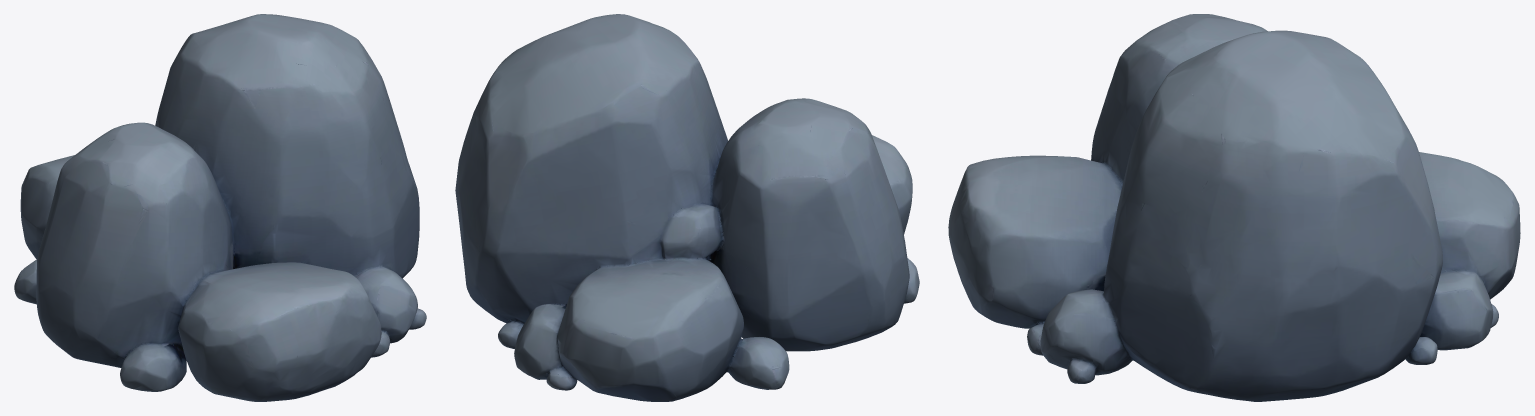
File: rock.glb
3 views of the same model, side by side, from view 1: azimuth 30°, elevation 25°; view 2: azimuth 150°, elevation 25°; view 3: azimuth 270°, elevation 25° (orthographic). The views are drawn at different scales.
Visible parts, largest first — view 1: Mesh_0; view 2: Mesh_0; view 3: Mesh_0.
Part boxes in pixels (box(x1,y1,x2,y2)): Mesh_0: box(14, 14, 426, 401); Mesh_0: box(455, 14, 919, 401); Mesh_0: box(948, 14, 1520, 401).
Size of the model in its own units: 1.69 by 1.19 by 1.91.
1 material, 1 textured.
